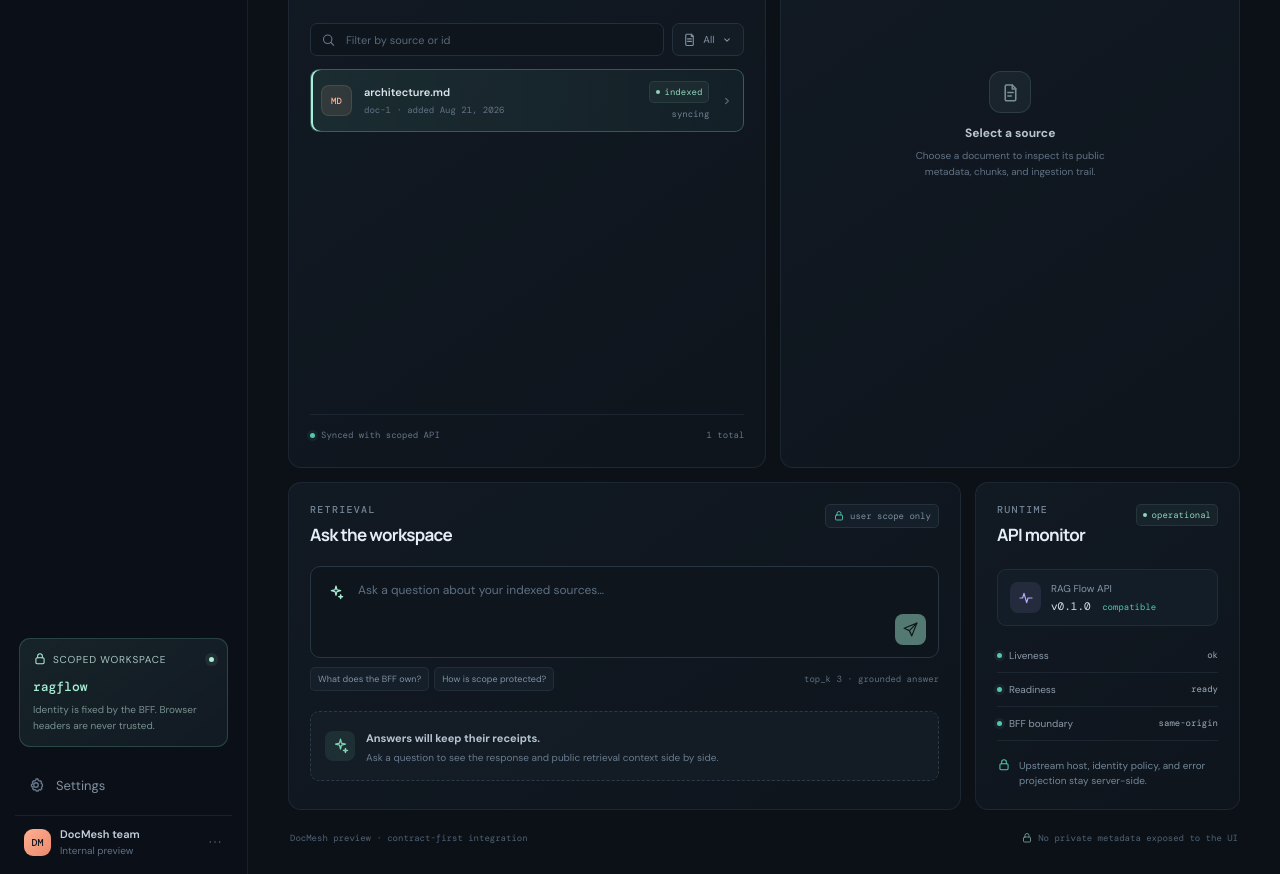
Test: RAG Flow workspace › shows the stable API error code for a failed query
(page scrolled)
Type "What is this?" into the text box with placeholder "Ask a question about your indexed sources…".
click(622, 612); type("What is this?")  # box [348,579,895,645]
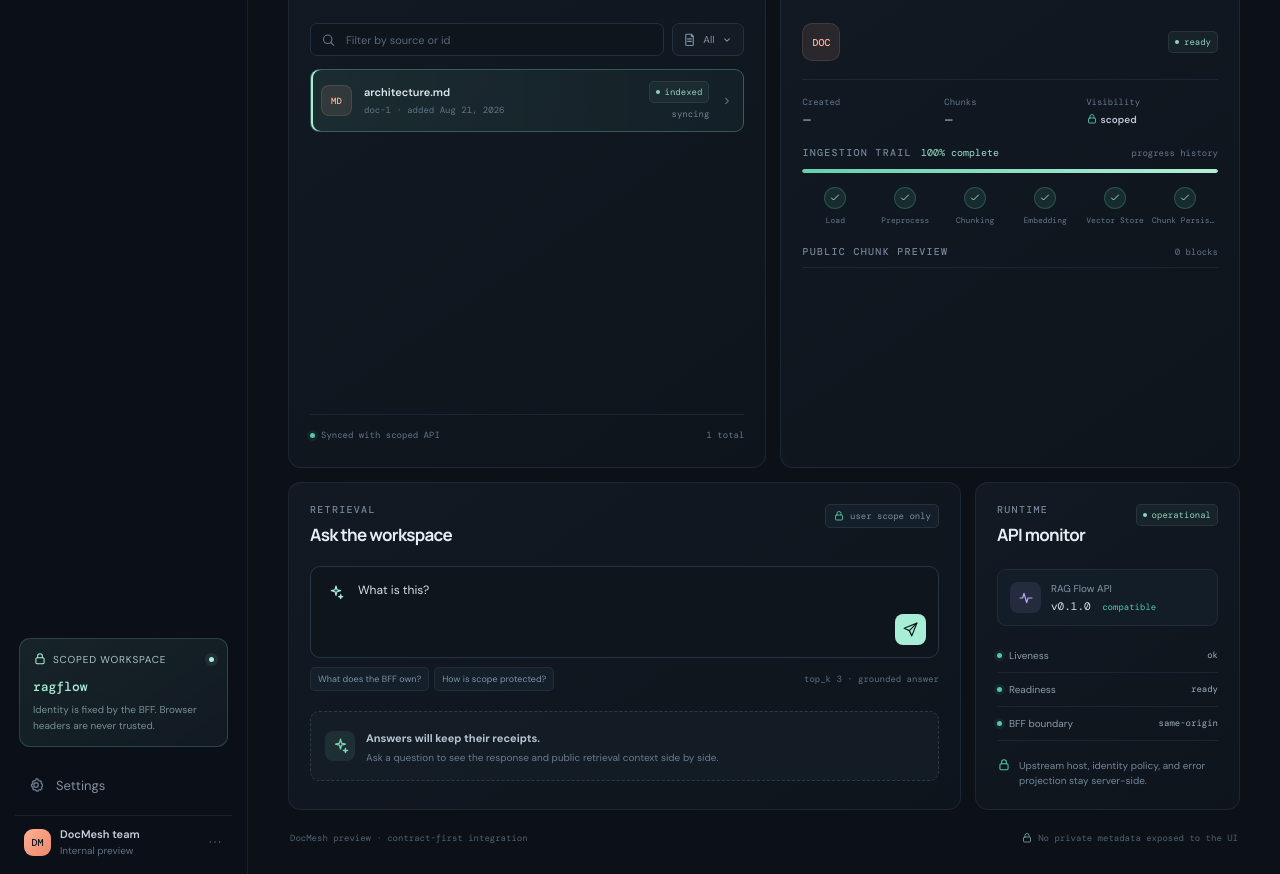
Submit the form, box [310,566,939,691]
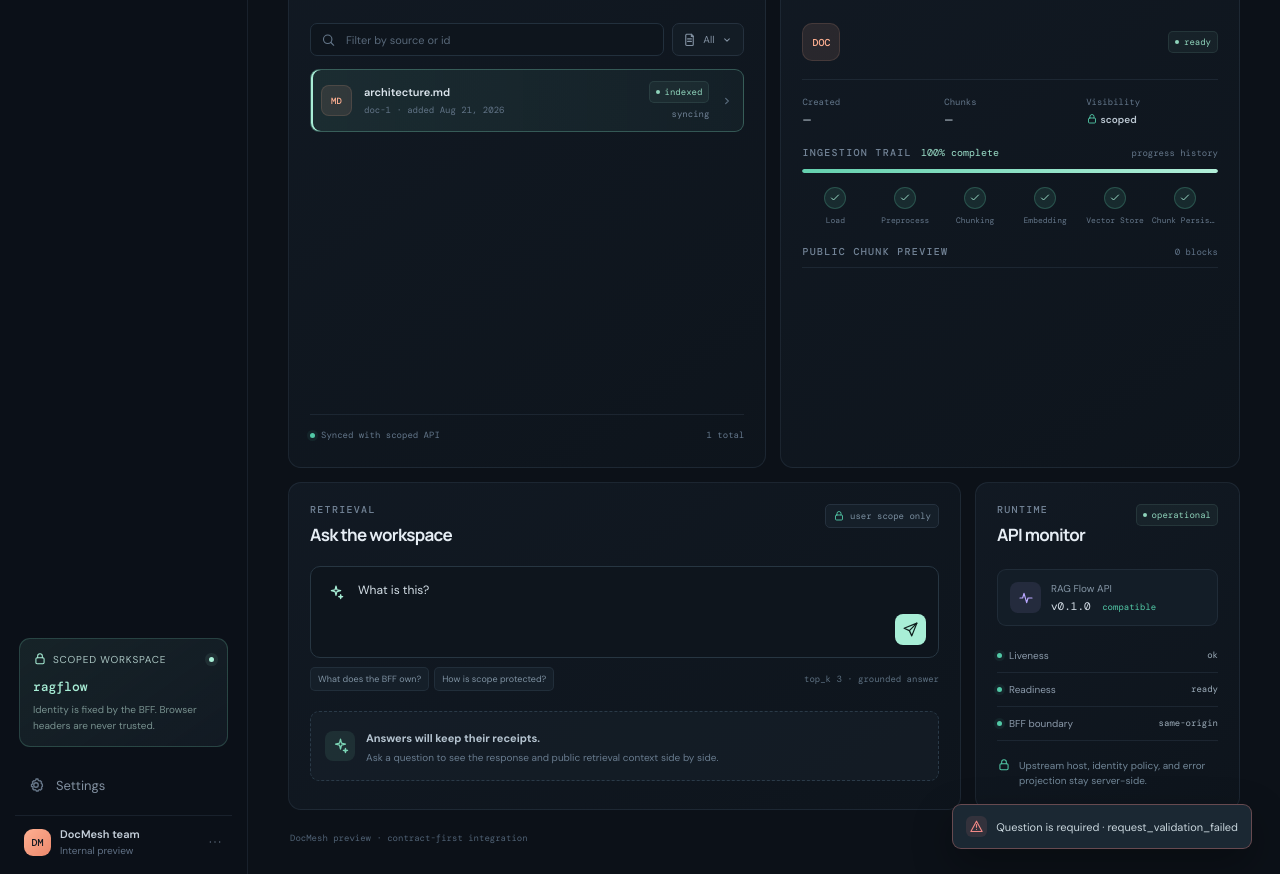
Result: the text "Question is required · request_validation_failed" is shown at [952,804,1252,849]
